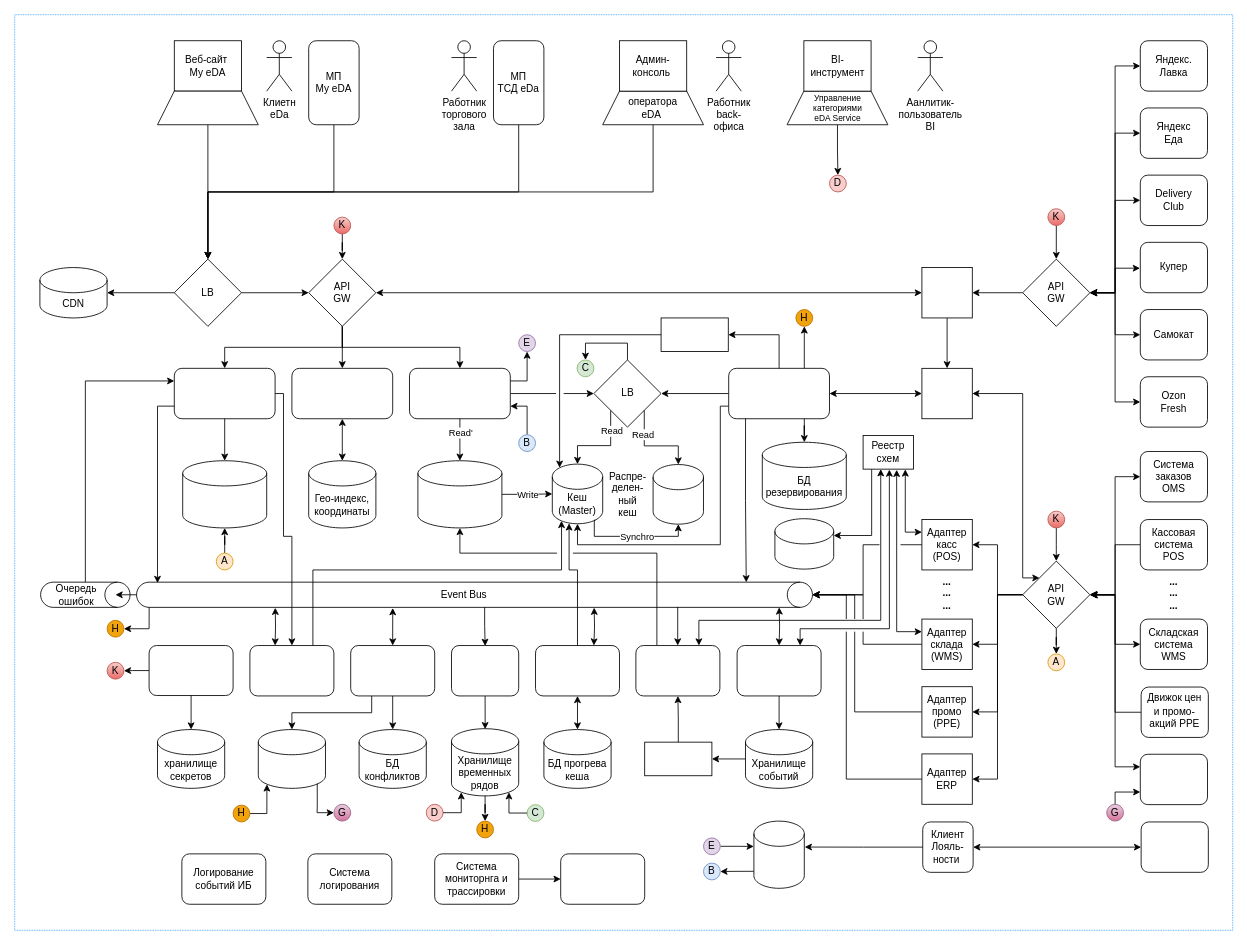
This 1247x945 diagram has some shape labels left out. Each missing label, with the centre of its shape:
ERP- система: (1173,779)
Адаптер заказов (OMS): (946,393)
Адептер служб доставки: (946,292)
Админ- сервис: (224,393)
Архивное хранилище: (291,758)
БД реестра схем: (804,543)
Гео-сервис: (342,393)
Загрузчик моделей чтения: (677,670)
Захват изменений: (678,758)
Кеш (Replica): (678,494)
Кеш лояль-ности: (778,854)
Менеджер блокировок: (694,334)
Метаданные, справочники: (224,494)
Оповещение: (602,878)
Платформа Лояльности: (1174,846)
Сервис агрегации метрик: (485,670)
Сервис запросов: (459,393)
Сервис комманд: (778,670)
Сервис прогрева кеша: (577,670)
Сервис резервирования: (779,393)
Сервис сверки: (392,670)
Сервис синхронизации кеша: (291,670)
Управление секретами: (190,670)
Хранилище модели чтения: (459,494)
